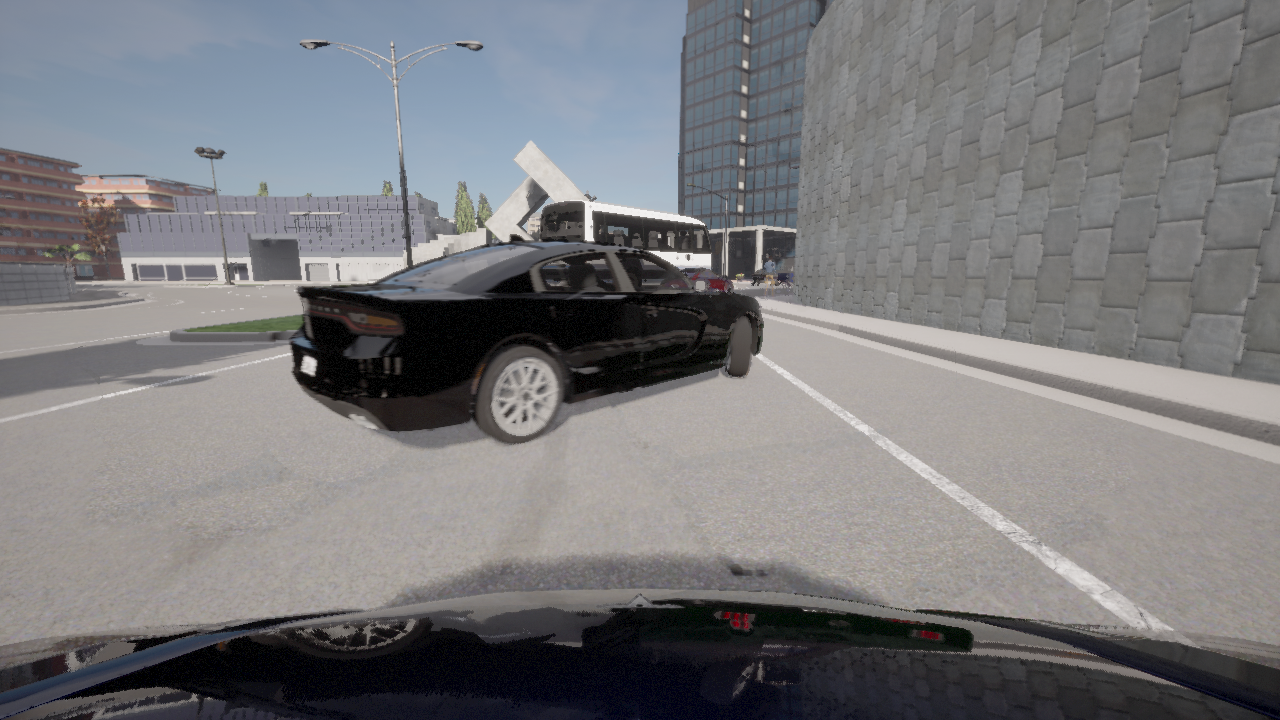cyclist: (0, 588, 1279, 719), (289, 235, 762, 444), (539, 200, 720, 271), (681, 270, 733, 292), (750, 270, 779, 287), (776, 265, 794, 286)
pedestrian: (762, 254, 776, 299)
